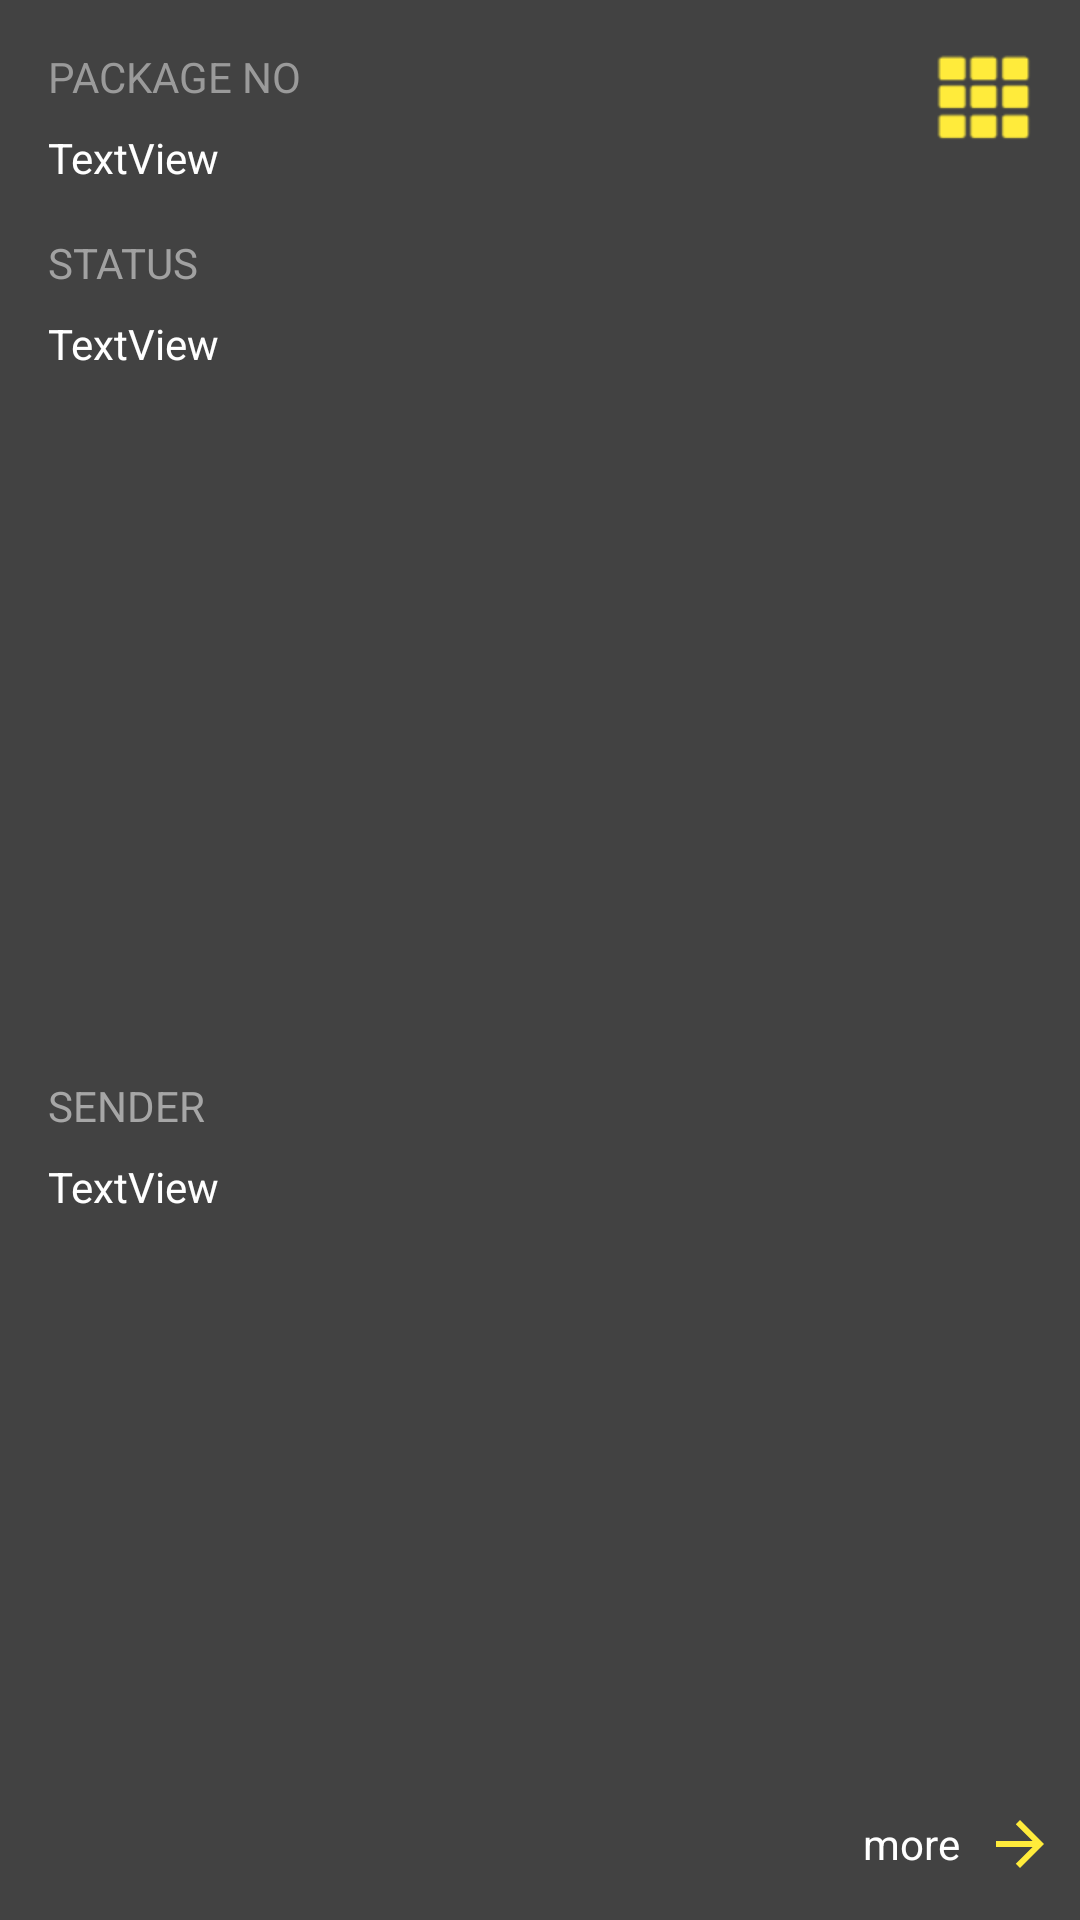

Where to tap for icons on this 1080px x 1920px app screen, as (x=x, y=y):
dialer: (x=983, y=97)
